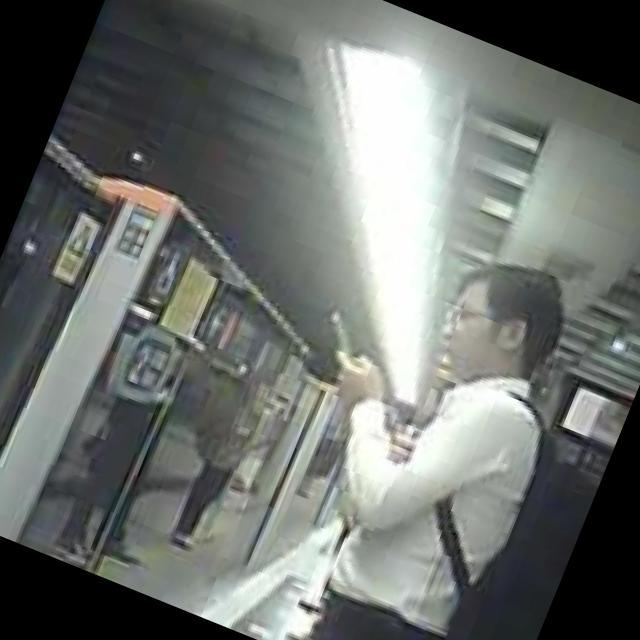person: (231, 207, 622, 640)
